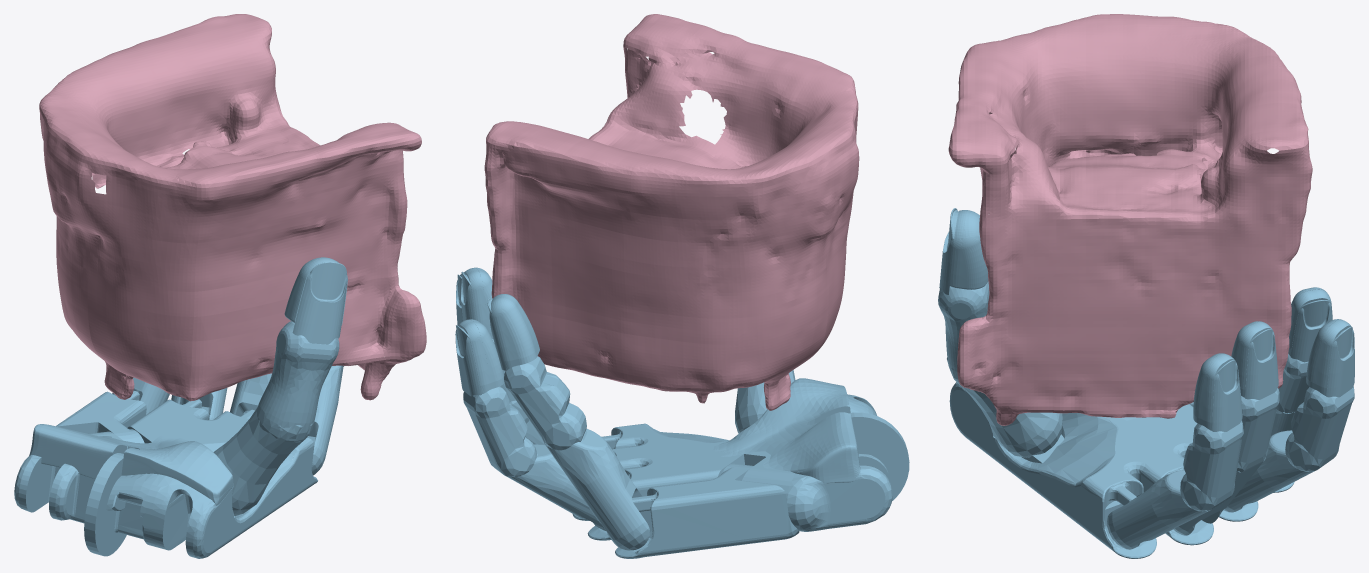
The picture shows the model from 3 angles, left to right: view 1: azimuth 30°, elevation 25°; view 2: azimuth 150°, elevation 25°; view 3: azimuth 270°, elevation 25°; orthographic projection. The views are drawn at different scales.
Parts seen in each view (by area): view 1: world, hand_isaac_q; view 2: world, hand_isaac_q; view 3: world, hand_isaac_q.
Part boxes in pixels (box(x1,y1,x2,y2)): world: box(39, 14, 426, 401); hand_isaac_q: box(14, 257, 347, 558); world: box(484, 14, 859, 410); hand_isaac_q: box(455, 267, 909, 558); world: box(948, 14, 1312, 425); hand_isaac_q: box(938, 208, 1354, 558).
Bounding box in the file's own units: 0.167 × 0.1688 × 0.1492.
